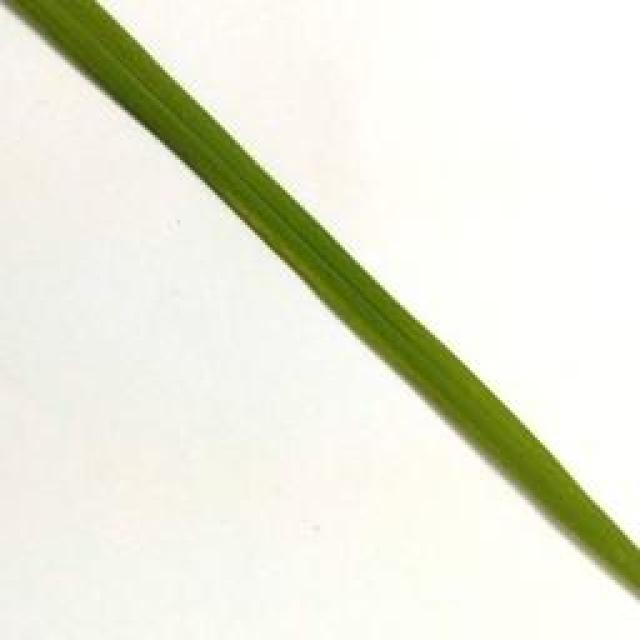Healthy-Plant: (2, 1, 206, 111), (272, 248, 428, 329), (350, 329, 502, 402), (205, 180, 347, 250), (129, 111, 273, 180), (543, 518, 640, 602), (424, 402, 560, 461), (484, 462, 611, 518)
